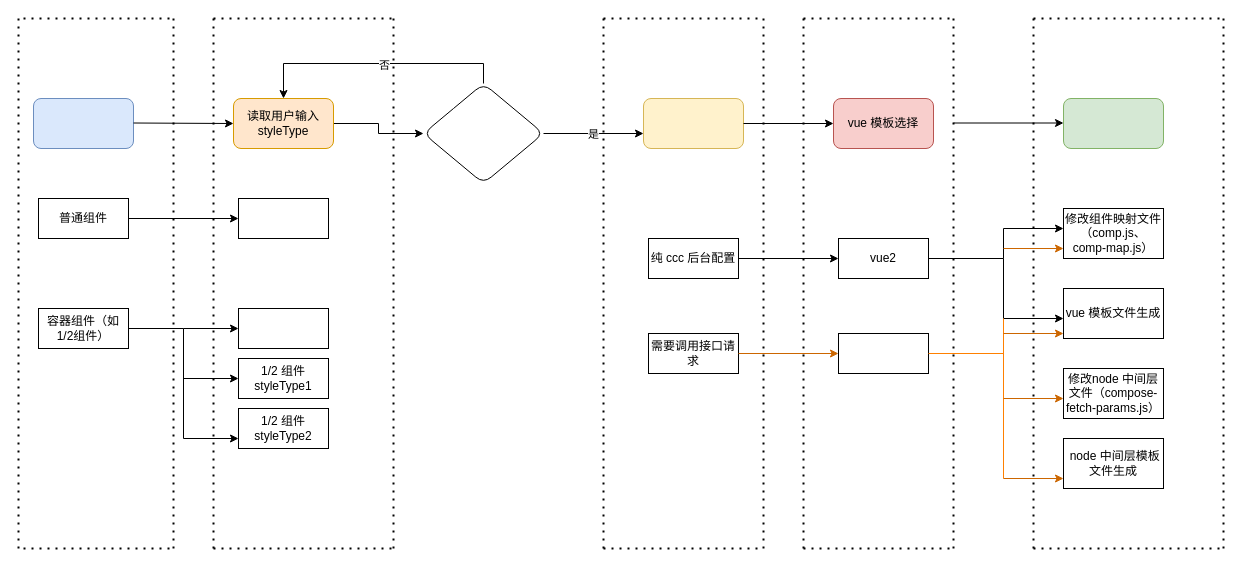
Some shapes in this 1242 by 567 pixel diagram are drawn without their labels. Each missing label, with the centre of its shape:
styleType 是否校验通过？: (x=483, y=133)
vue3: (x=883, y=353)
只需一个 styleType: (x=283, y=218)
容器 styleType: (x=283, y=328)
文件处理: (x=1113, y=123)
组件数据来源选择: (x=693, y=123)
组件类型选择: (x=83, y=123)
